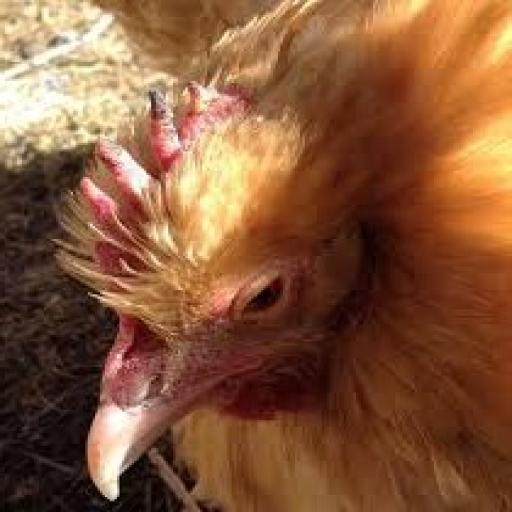disease: (50, 114, 188, 280), (193, 246, 313, 335), (139, 57, 221, 159)
